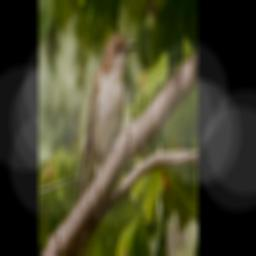Cuckoo: (71, 28, 137, 256)
